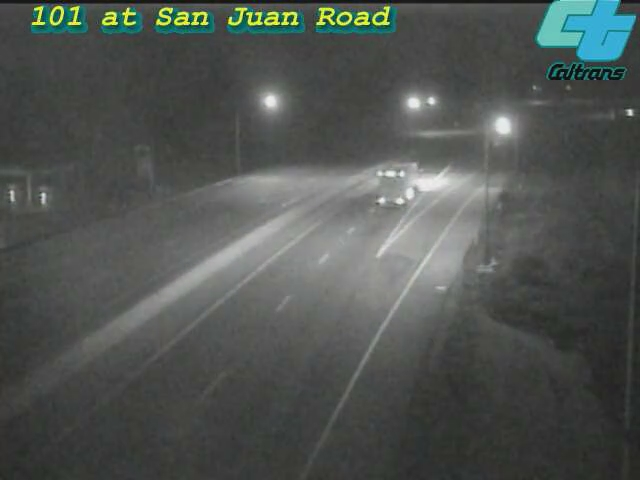vehicle: (355, 147, 435, 227), (474, 101, 524, 151)
